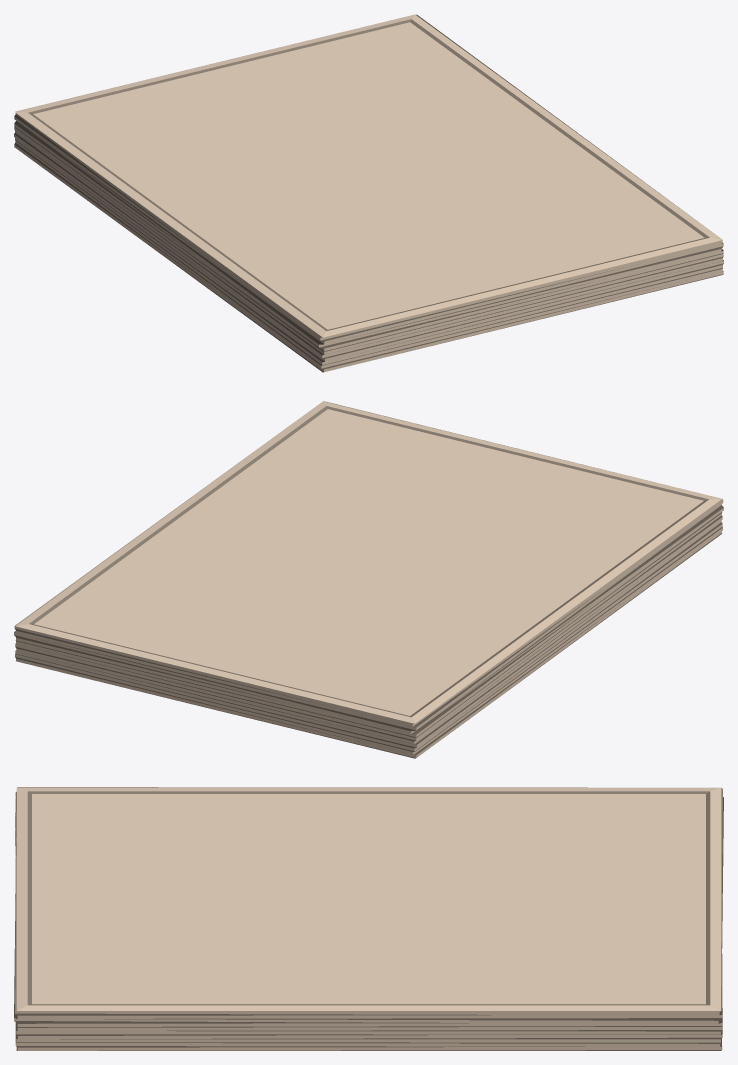
The model's file is Card.fbx.
3 views of the same model, one above another, from view 1: azimuth 30°, elevation 25°; view 2: azimuth 150°, elevation 25°; view 3: azimuth 270°, elevation 25° (orthographic). The views are drawn at different scales.
Parts seen in each view (by area): view 1: Cube.010; view 2: Cube.010; view 3: Cube.010.
Part boxes in pixels (box(x1,y1,x2,y2)): Cube.010: box(14, 14, 723, 372); Cube.010: box(14, 401, 723, 758); Cube.010: box(14, 787, 723, 1050).
Bounding box in the file's own units: 122 × 10.25 × 161.
